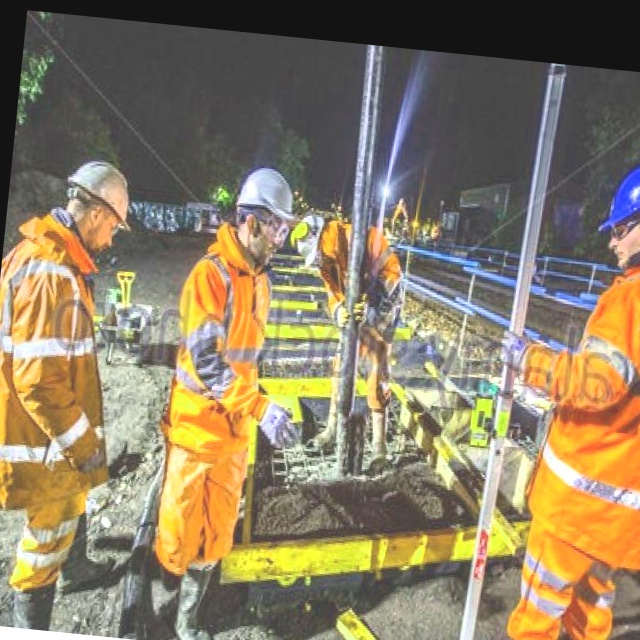Con_Casco: (59, 159, 136, 254), (230, 165, 302, 250), (600, 152, 640, 259)
Con_Chaleco: (527, 248, 640, 553), (163, 245, 269, 444)
